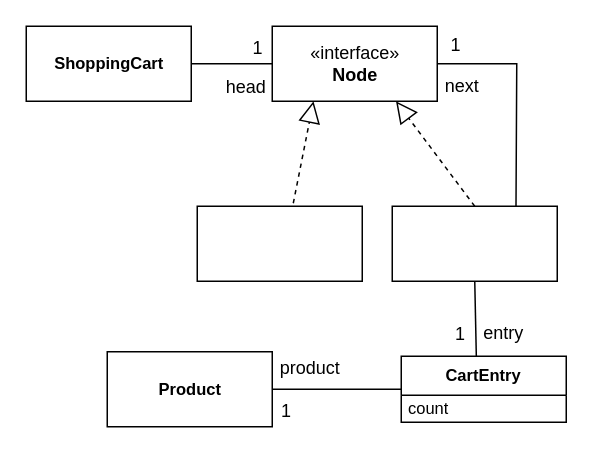
The diagram is 593 pixels wide and 453 high, and some of its shapes have lost their labels. Each missing label, with the centre of its shape:
"InnerNode" belongs at (474,243).
"LeafNode" belongs at (279,243).
